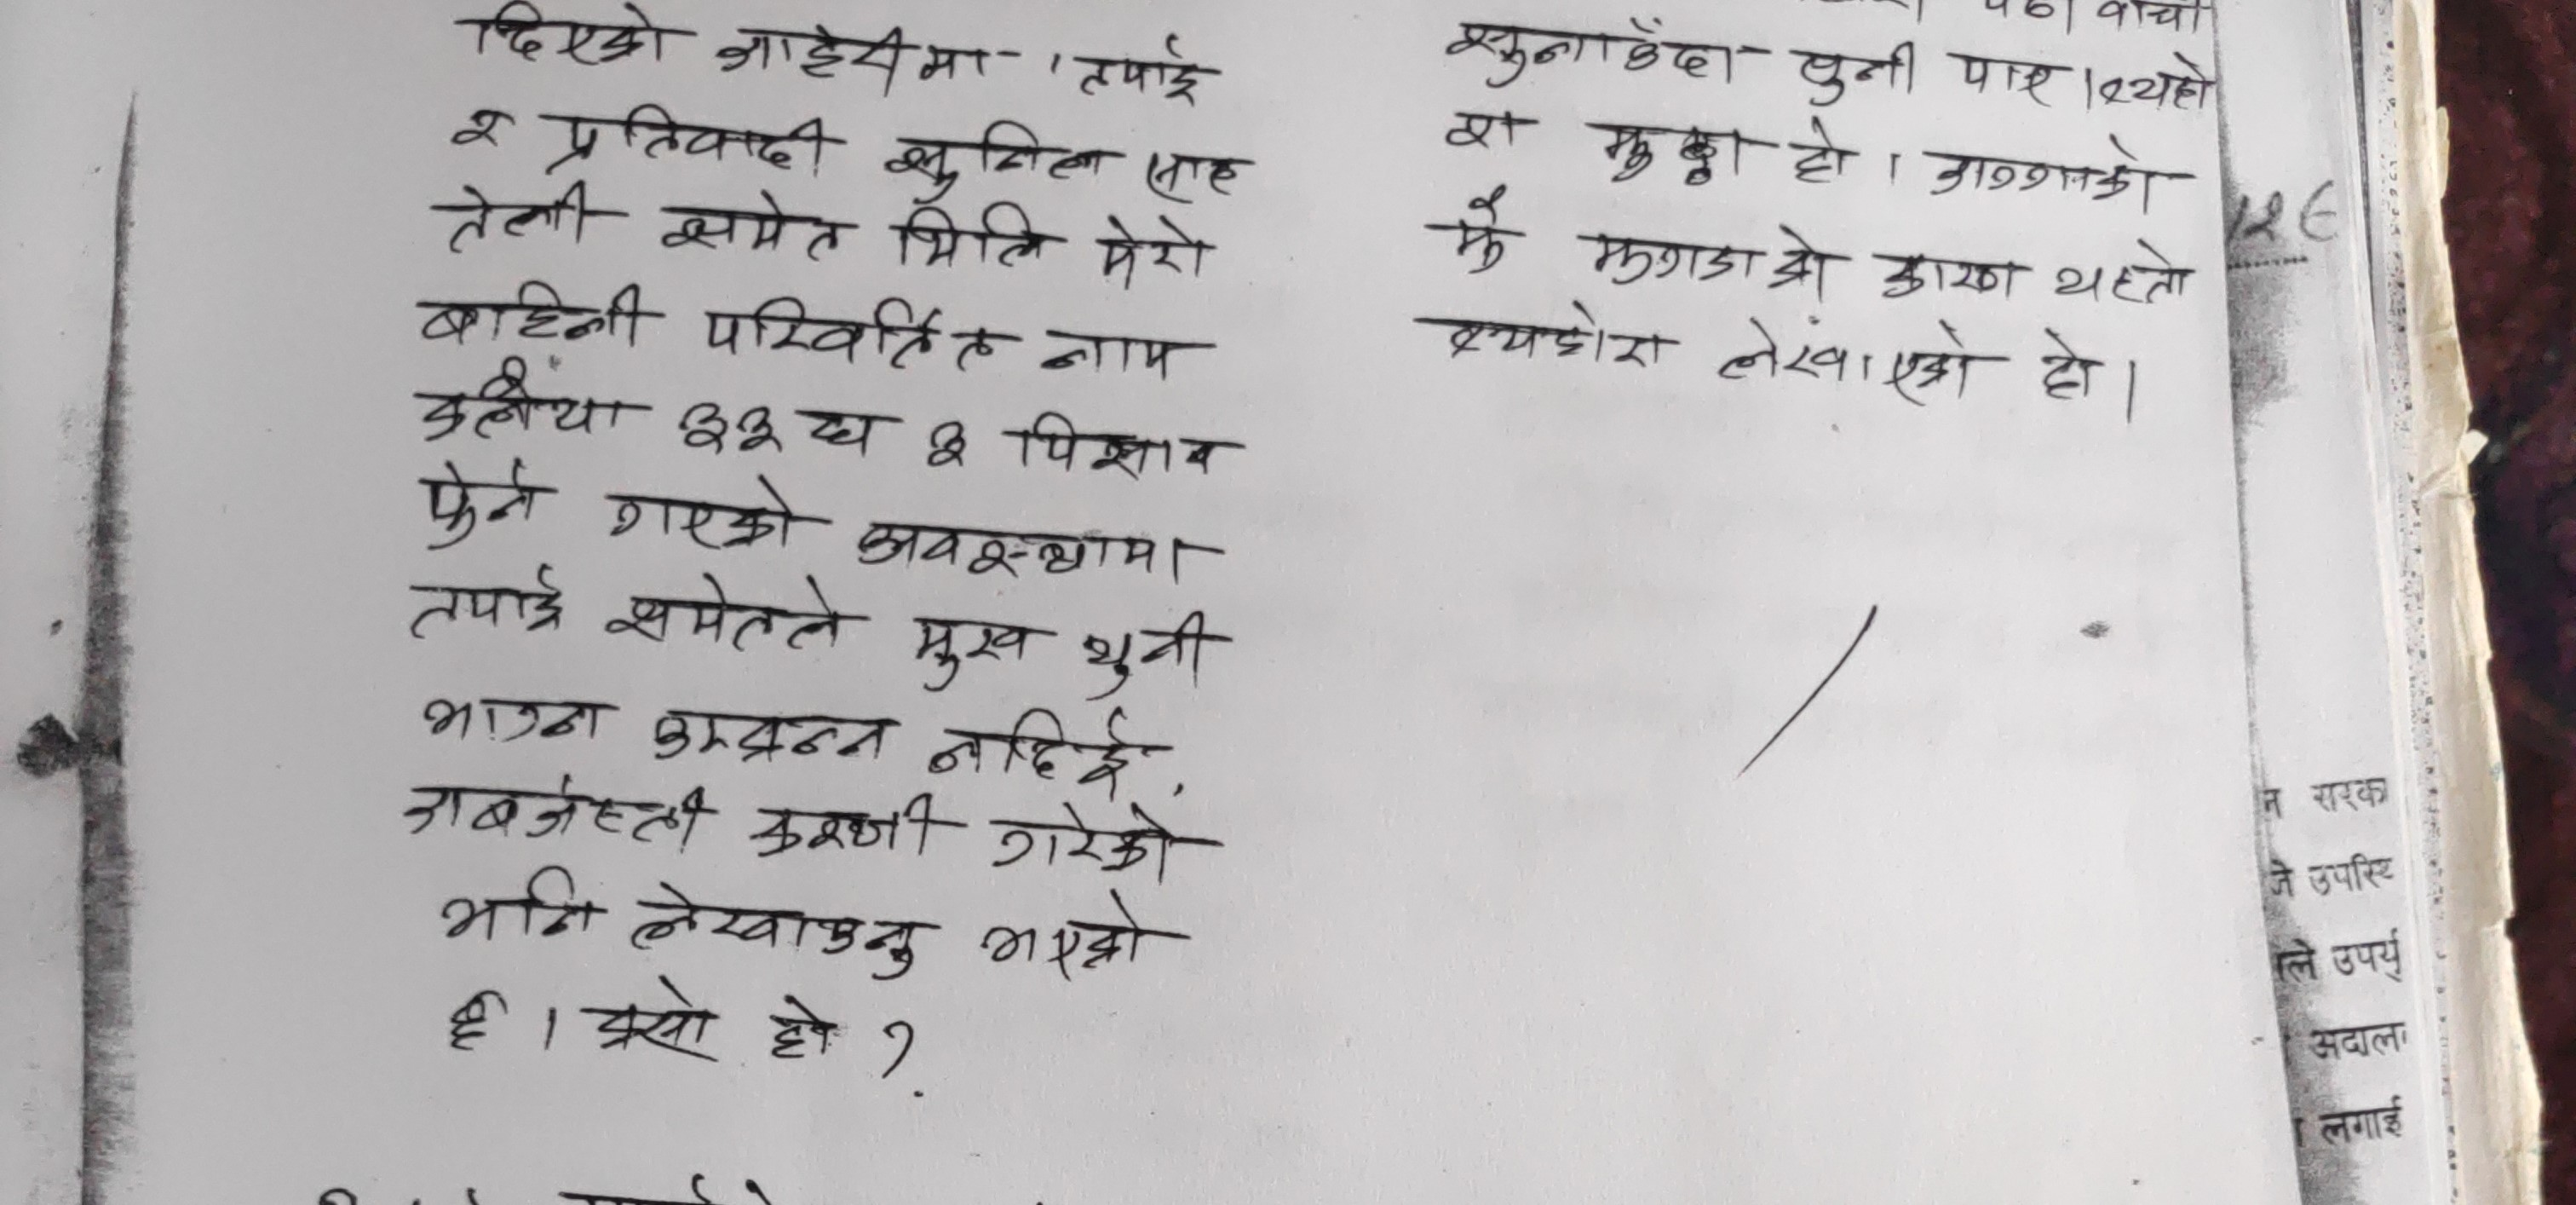text: (626, 871, 917, 990), (851, 508, 1204, 590), (399, 766, 723, 855), (1437, 2, 1746, 94), (1710, 312, 1976, 411), (716, 15, 1002, 100), (552, 99, 846, 181), (591, 567, 848, 659), (874, 112, 1114, 205), (920, 699, 1137, 799), (406, 357, 639, 449), (641, 692, 894, 776), (1919, 132, 2159, 217), (411, 273, 654, 357), (982, 791, 1191, 888), (693, 294, 940, 370), (396, 549, 570, 648), (609, 473, 810, 559), (1007, 406, 1237, 480), (1434, 311, 1672, 380), (746, 786, 938, 871), (651, 186, 844, 268), (452, 3, 680, 72), (976, 891, 1153, 976), (439, 858, 603, 945), (1582, 225, 1763, 301), (1074, 605, 1219, 699), (419, 686, 608, 755), (890, 197, 1061, 271), (412, 455, 547, 549), (907, 597, 1035, 692), (444, 174, 595, 255), (1081, 205, 1211, 296), (1597, 112, 1750, 187), (586, 976, 718, 1062), (1791, 25, 1922, 108), (1069, 31, 1217, 105), (1866, 240, 2027, 307), (1038, 321, 1189, 386), (2049, 238, 2188, 307), (672, 388, 785, 467), (2095, 49, 2211, 118), (1143, 136, 1244, 212), (756, 991, 851, 1065), (2032, 321, 2106, 411), (1447, 187, 1521, 275), (795, 406, 907, 462), (439, 986, 511, 1070), (1952, 53, 2060, 105), (1769, 217, 1837, 301), (1444, 100, 1539, 155), (1787, 122, 1856, 192), (444, 102, 517, 163), (913, 419, 979, 467)
